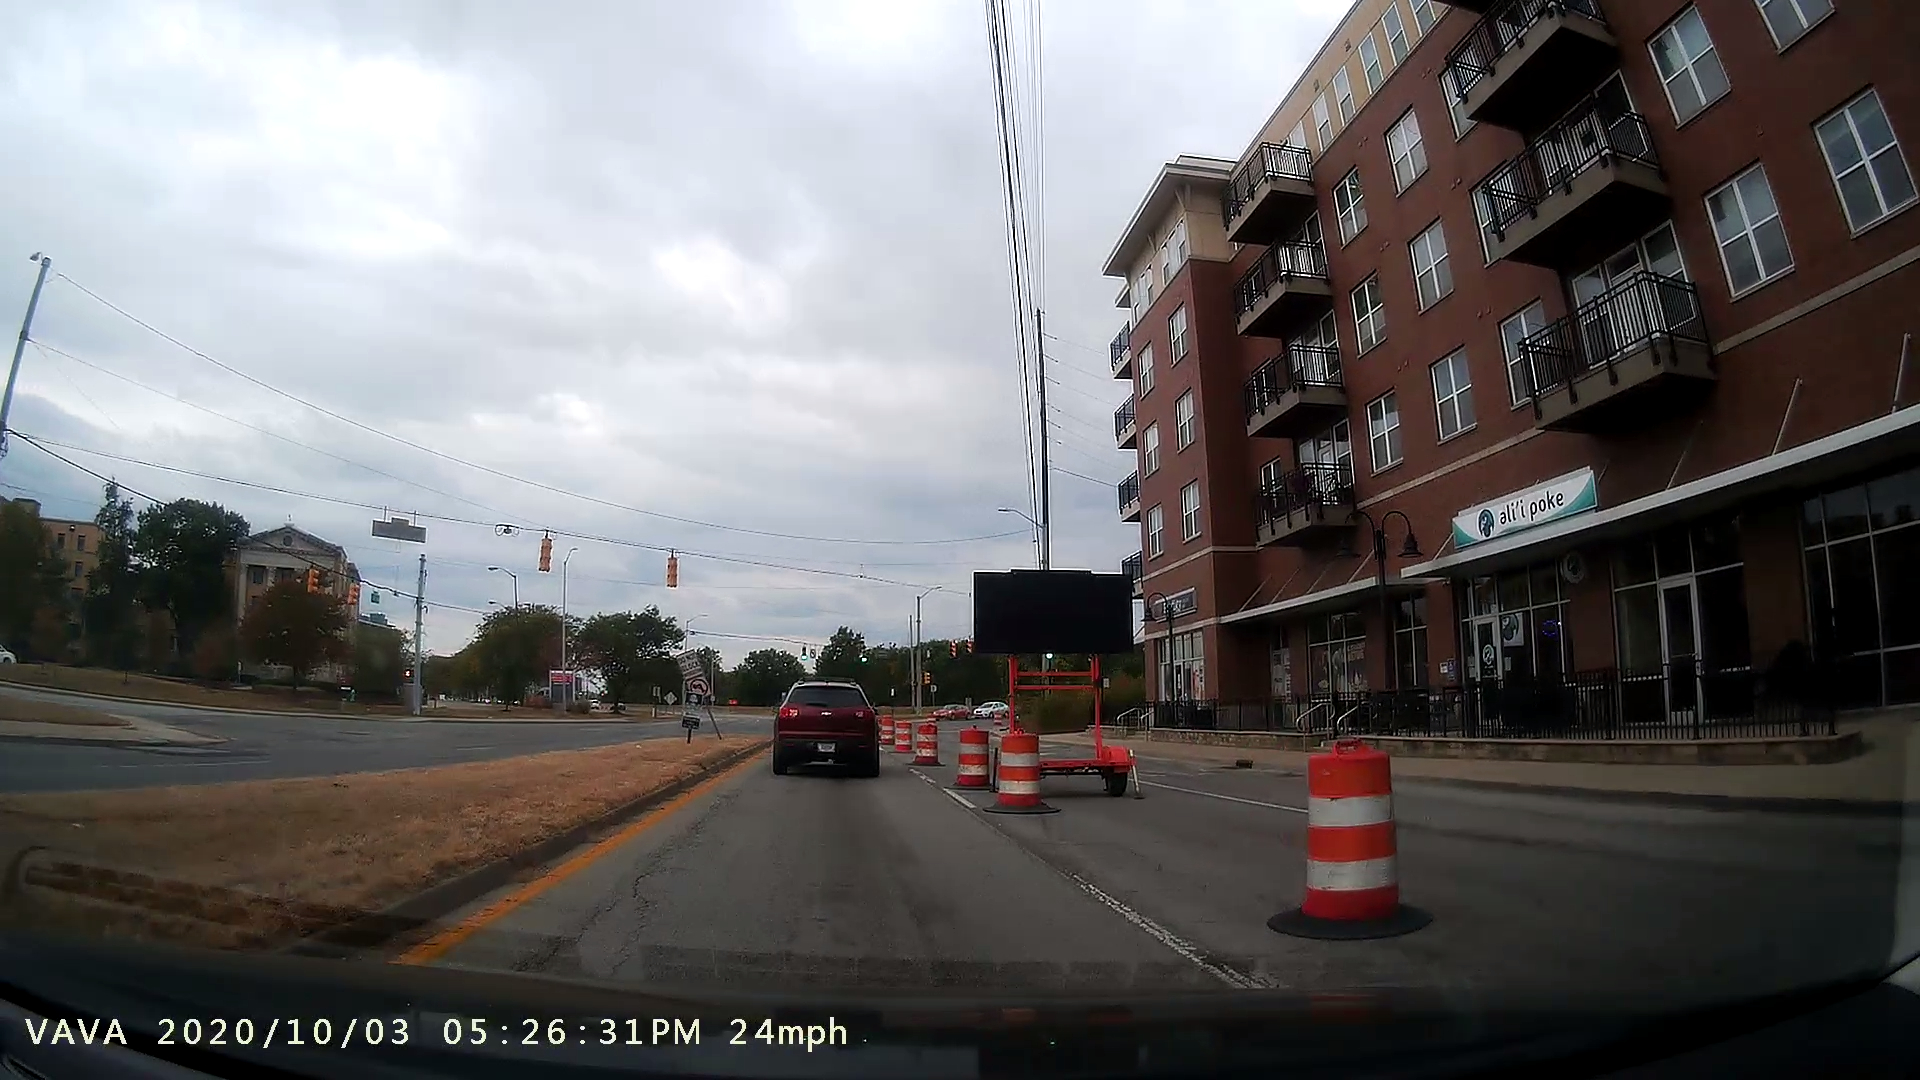const_barrel: (1263, 727, 1436, 952), (989, 719, 1083, 818), (949, 716, 996, 796), (910, 709, 945, 774)
